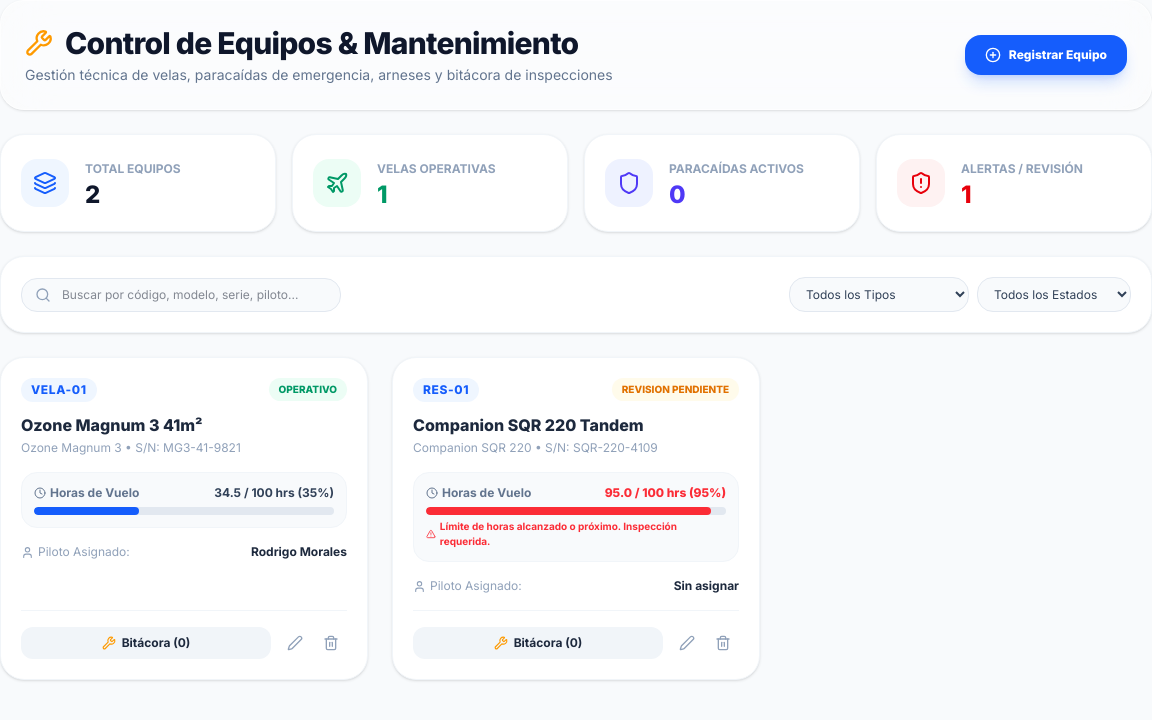
Test: Página de Equipos (/equipos) - Pruebas Unitarias y de Componente › 3. Debe abrir el modal de nuevo equipo al hacer clic en "Registrar Equipo"
The width and height of the screenshot is (1152, 720).
Click the button "Registrar Equipo": (1046, 55) x1=965 y1=35 x2=1127 y2=75
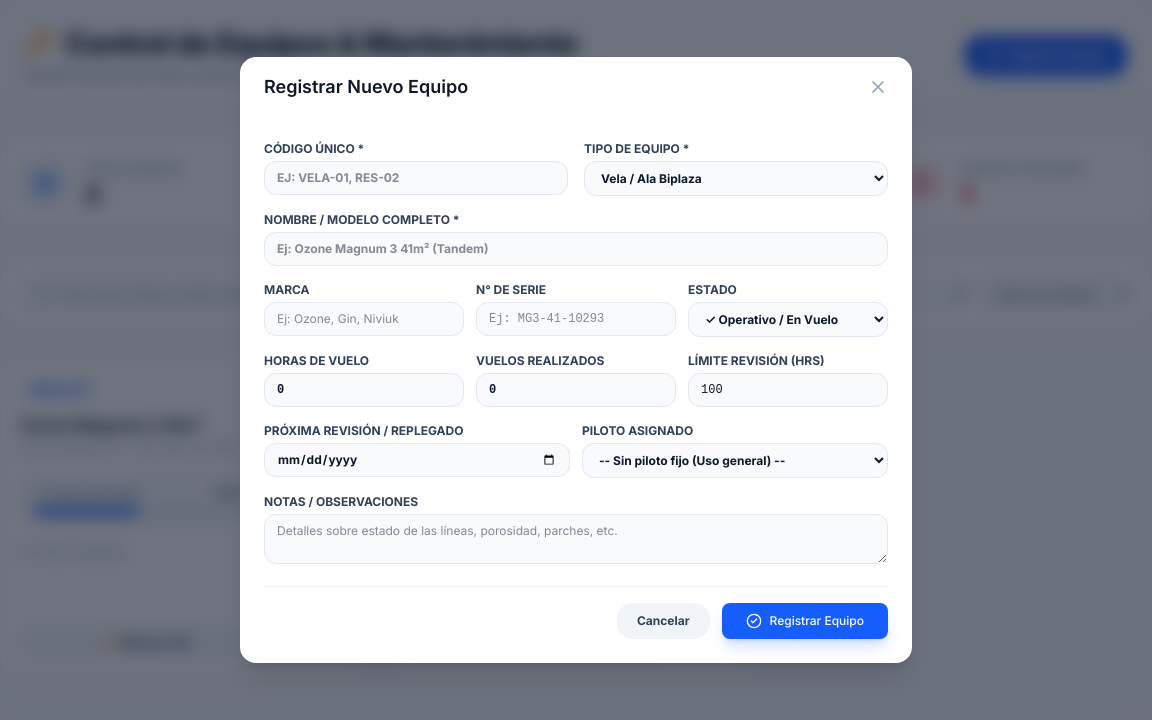
Result: the heading "Registrar Nuevo Equipo" is shown at x1=264 y1=73 x2=468 y2=101
